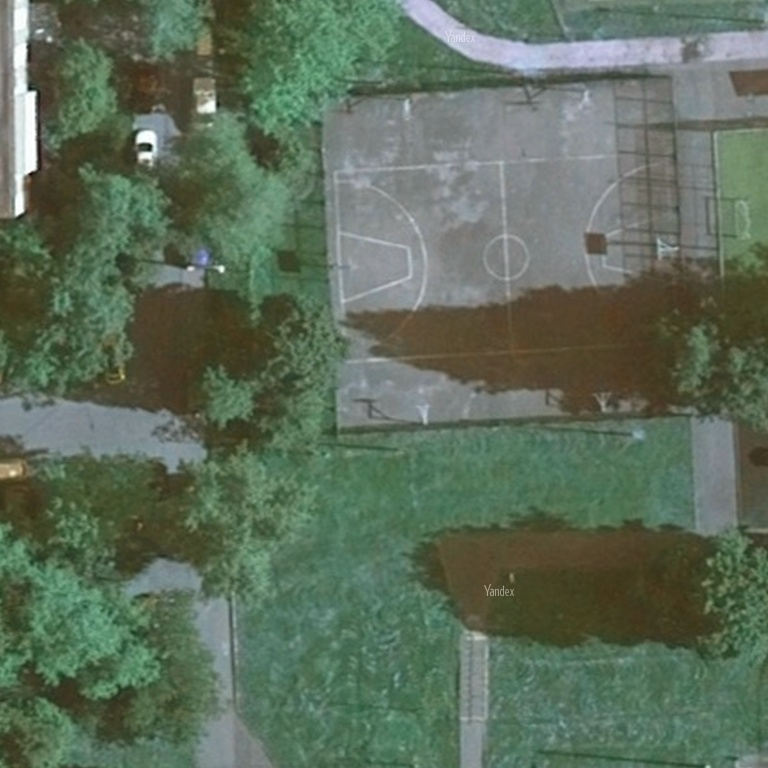basket_court: (324, 149, 691, 371)
